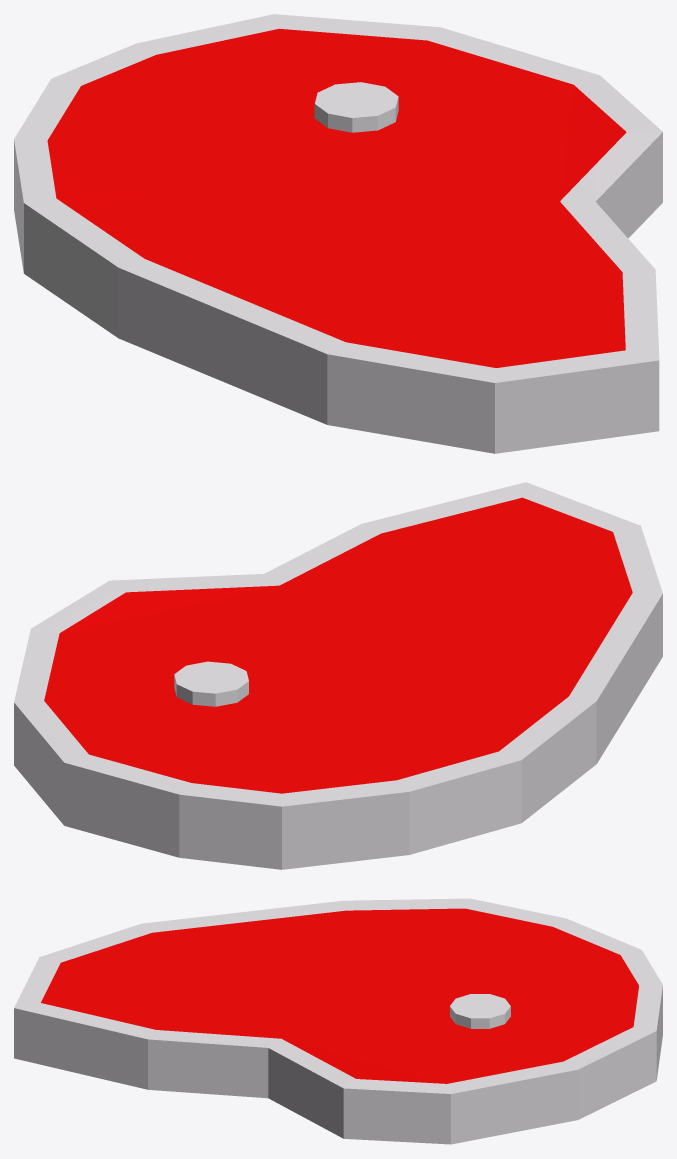
Rendered from Raw Steak.fbx.
3 views of the same model, one above another, from view 1: azimuth 30°, elevation 25°; view 2: azimuth 150°, elevation 25°; view 3: azimuth 270°, elevation 25° (orthographic). The views are drawn at different scales.
Visible parts, largest first — view 1: Raw Steak; view 2: Raw Steak; view 3: Raw Steak.
Boxes of the visible parts, left/top/right/bottom form: Raw Steak: left=14, top=14, right=662, bottom=453; Raw Steak: left=14, top=482, right=662, bottom=869; Raw Steak: left=14, top=898, right=662, bottom=1144.
Size of the model in its own units: 36.74 by 6.33 by 51.5.
